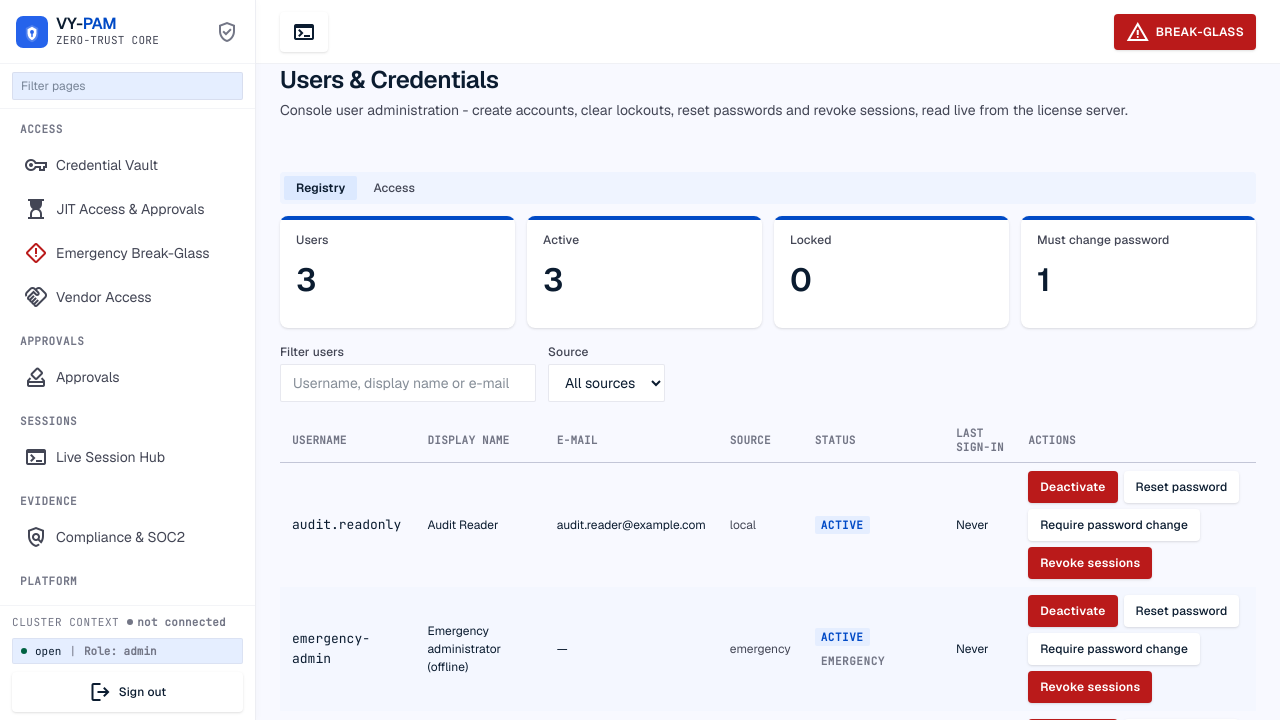
it: UsersPage (ADR-0016 batch 11.7, contract-shaped) › narrows the table honestly and keeps the registry-wide tiles
Expected: the text "audit.readonly" is shown, [292,516,401,533]
Type "zzz" into the search field labelled "Filter users" at (408, 383), box [280,364,536,402]
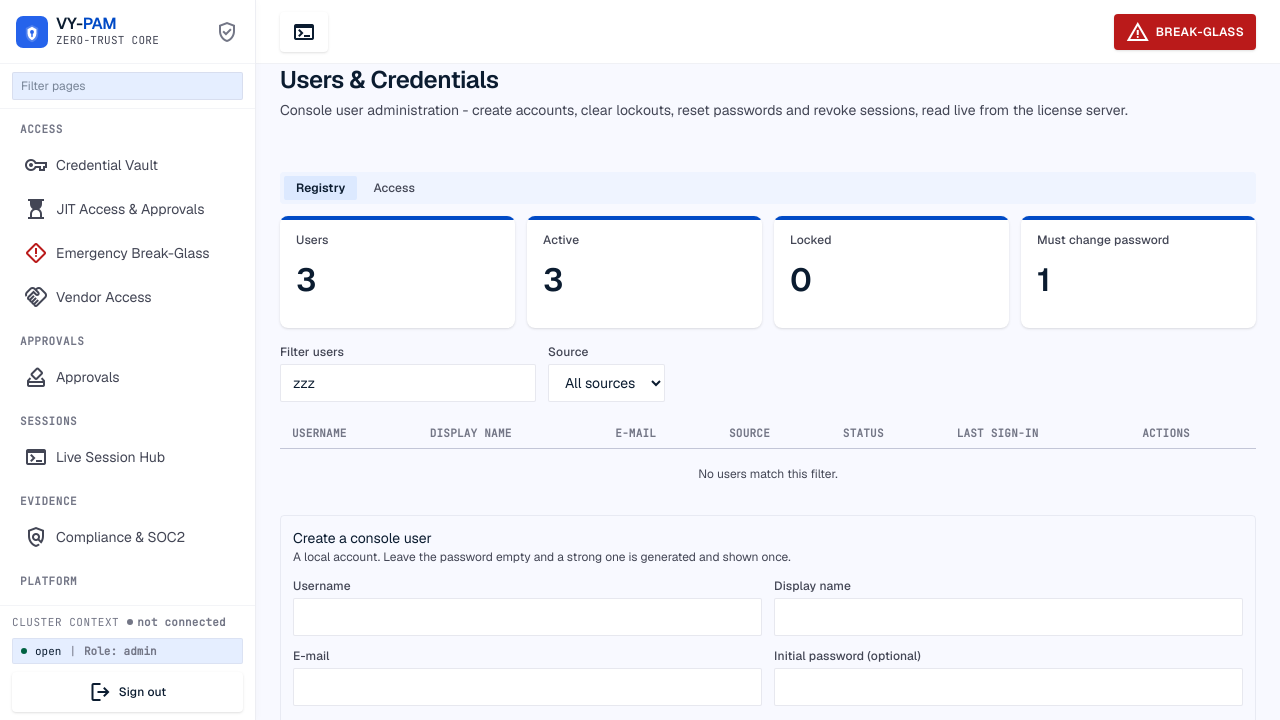
Expected: the text "No users match this filter." is shown, [280,449,1256,499]
